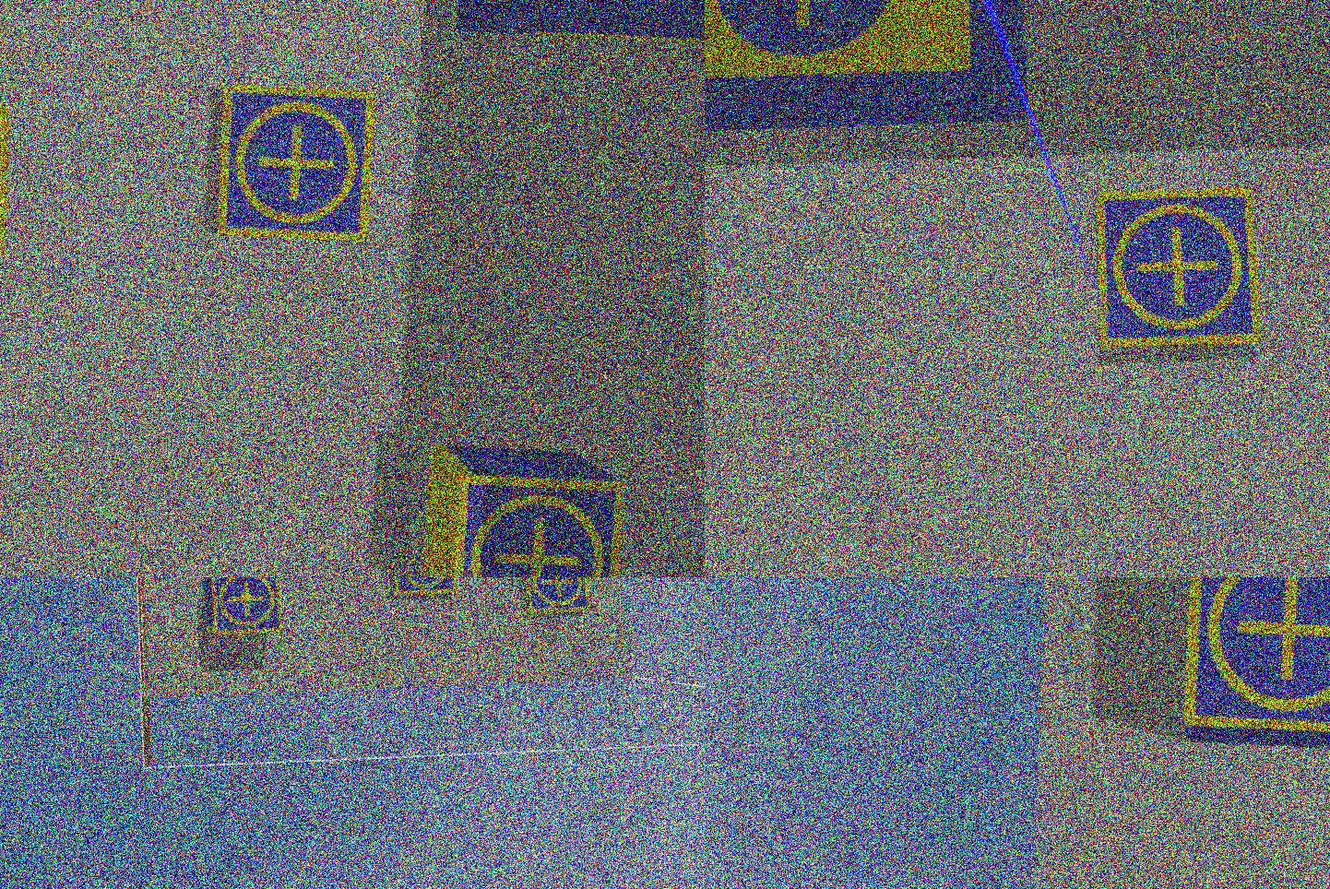large_base: (705, 1, 1050, 168)
small_base: (1082, 174, 1273, 367), (211, 82, 383, 245), (1179, 578, 1330, 742), (445, 468, 630, 578), (204, 578, 290, 642), (520, 578, 598, 622), (387, 578, 463, 601)
